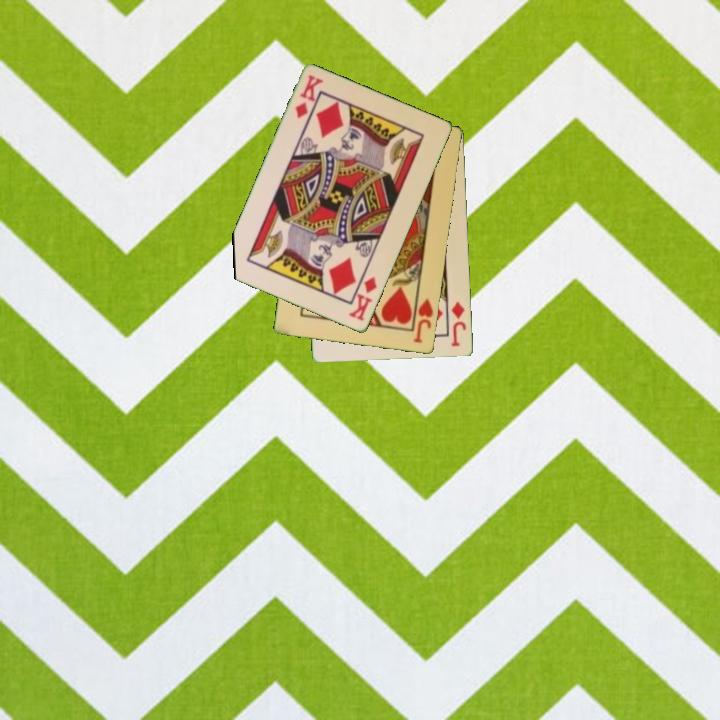Jd: (448, 298, 469, 349)
Jh: (410, 290, 436, 346)
Kd: (345, 274, 380, 324), (292, 71, 326, 122)
